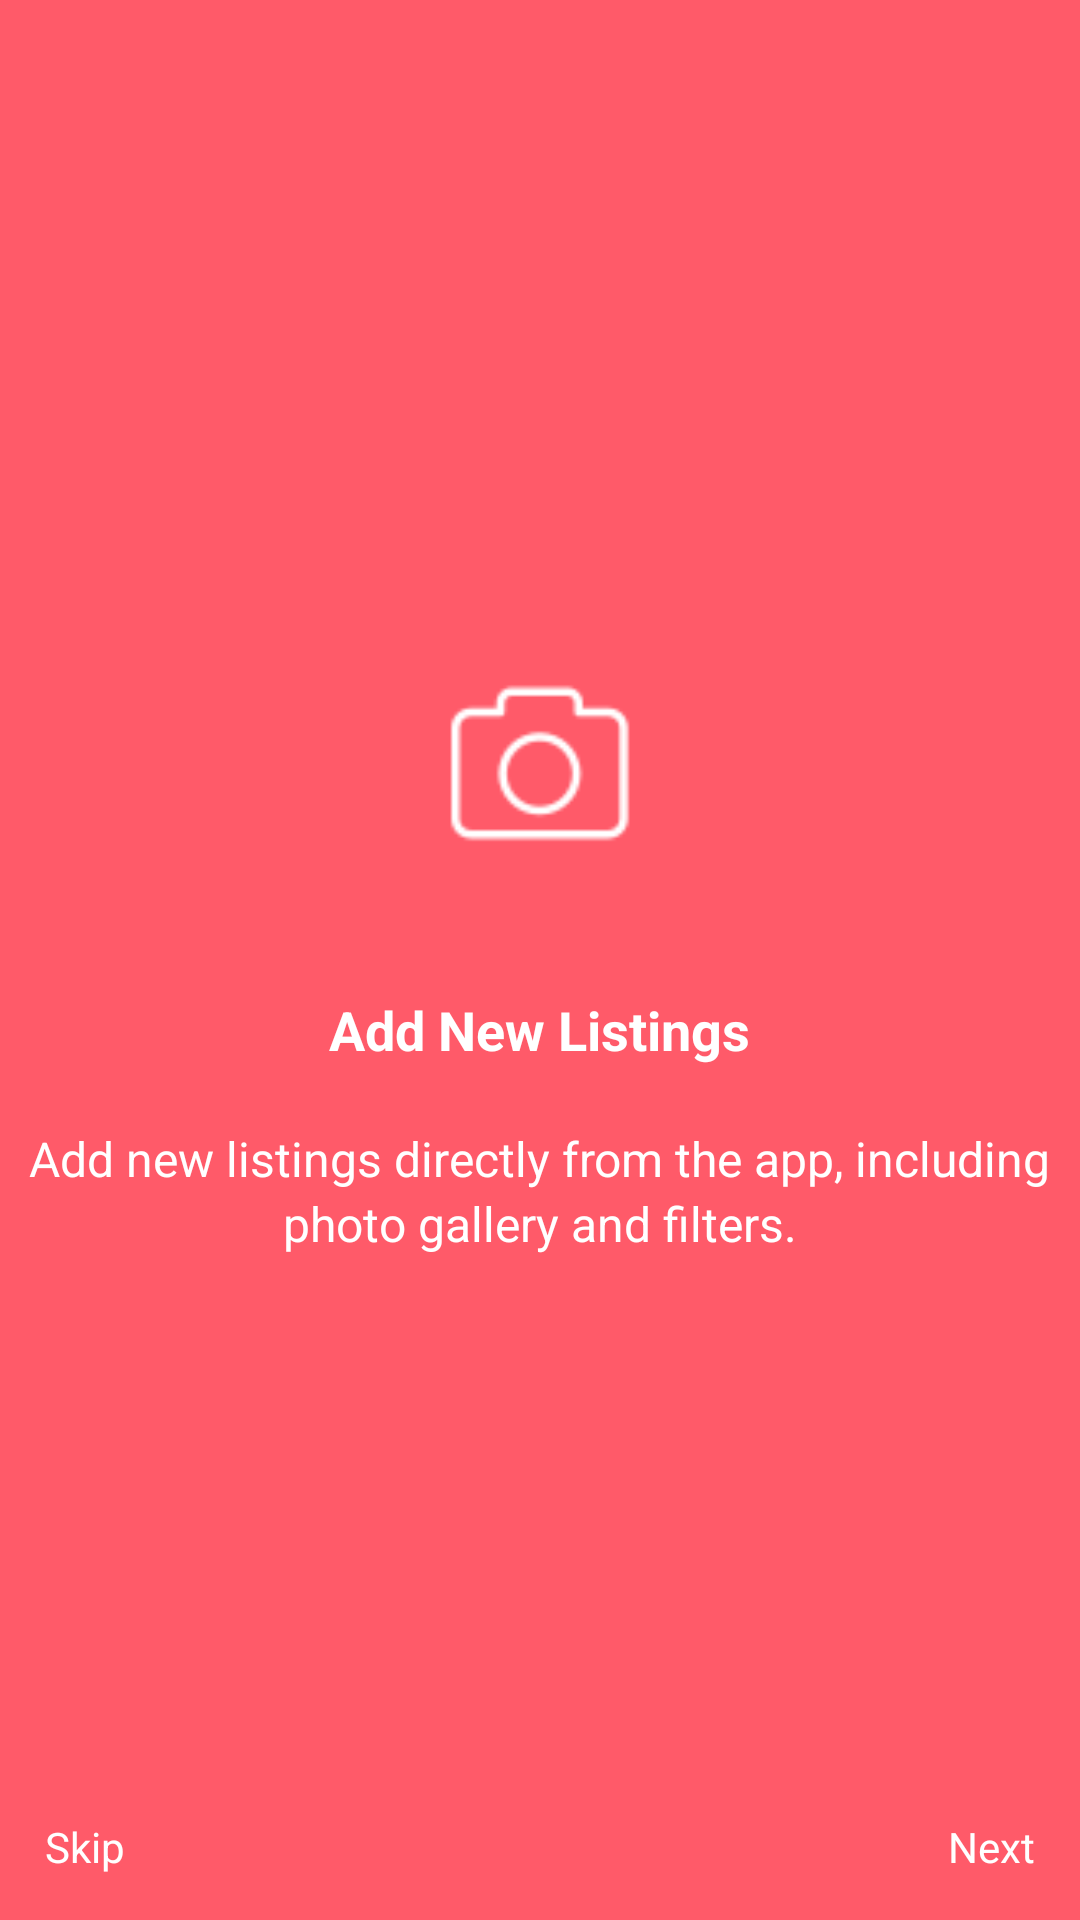

Icon bounding boxes for this 1080w x 1920h phone screenshot, format bbox(x1, y1, x2, y2):
camera: bbox(450, 685, 630, 841)
